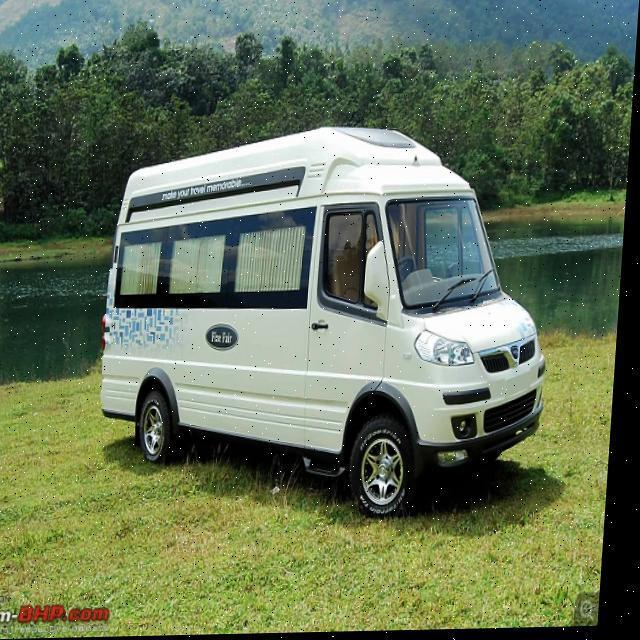Ambulance: (91, 119, 568, 531)
